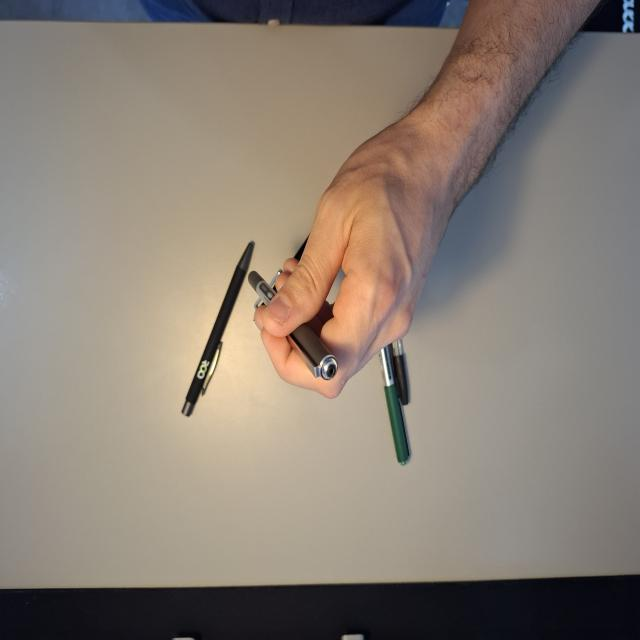glove_off: (251, 99, 462, 402)
